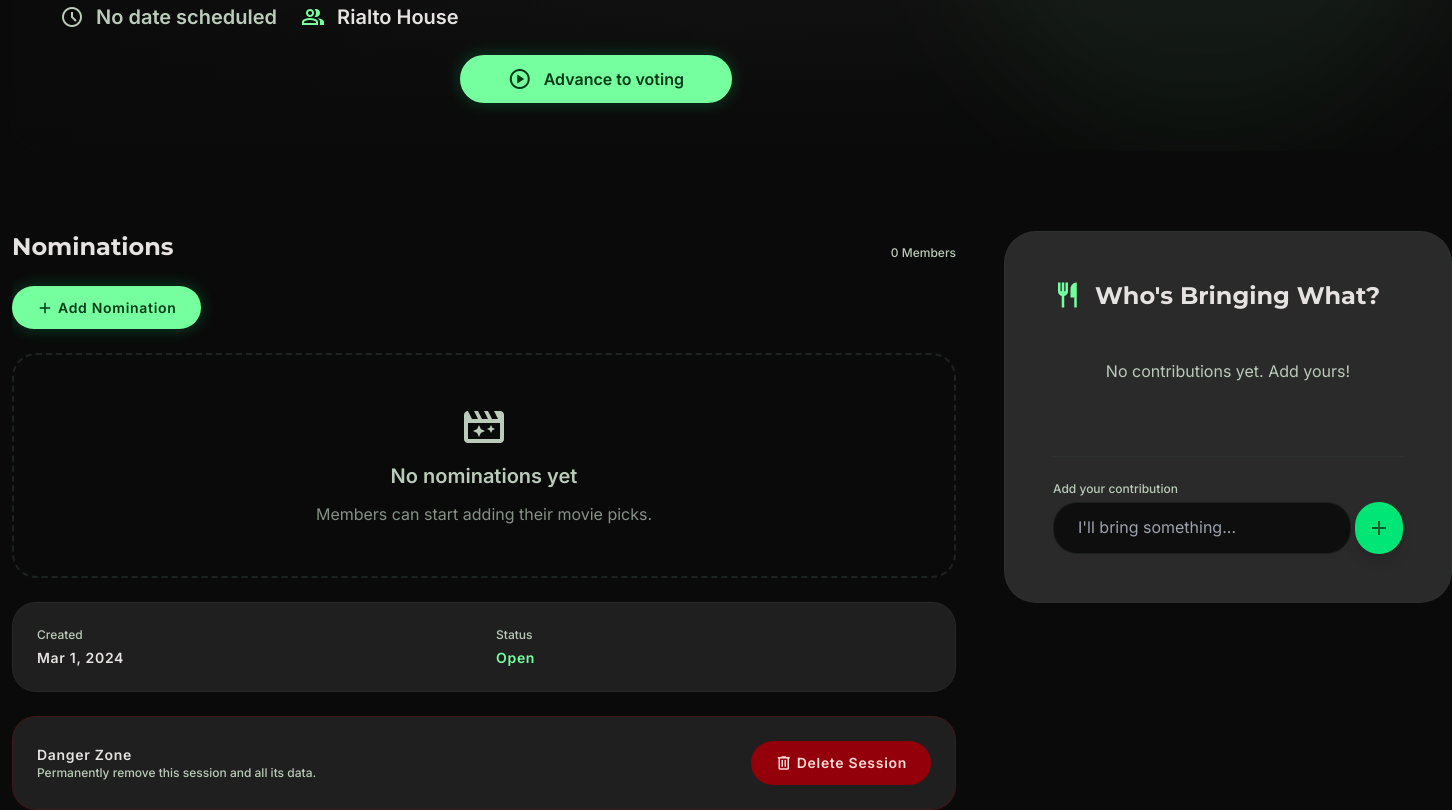
it: SessionPage › clicking the add button adds a contribution to the list
(page scrolled)
Type "Popcorn" into the field with placeholder "I'll bring something...". click: (1202, 528)
box: [1053,502,1351,554]
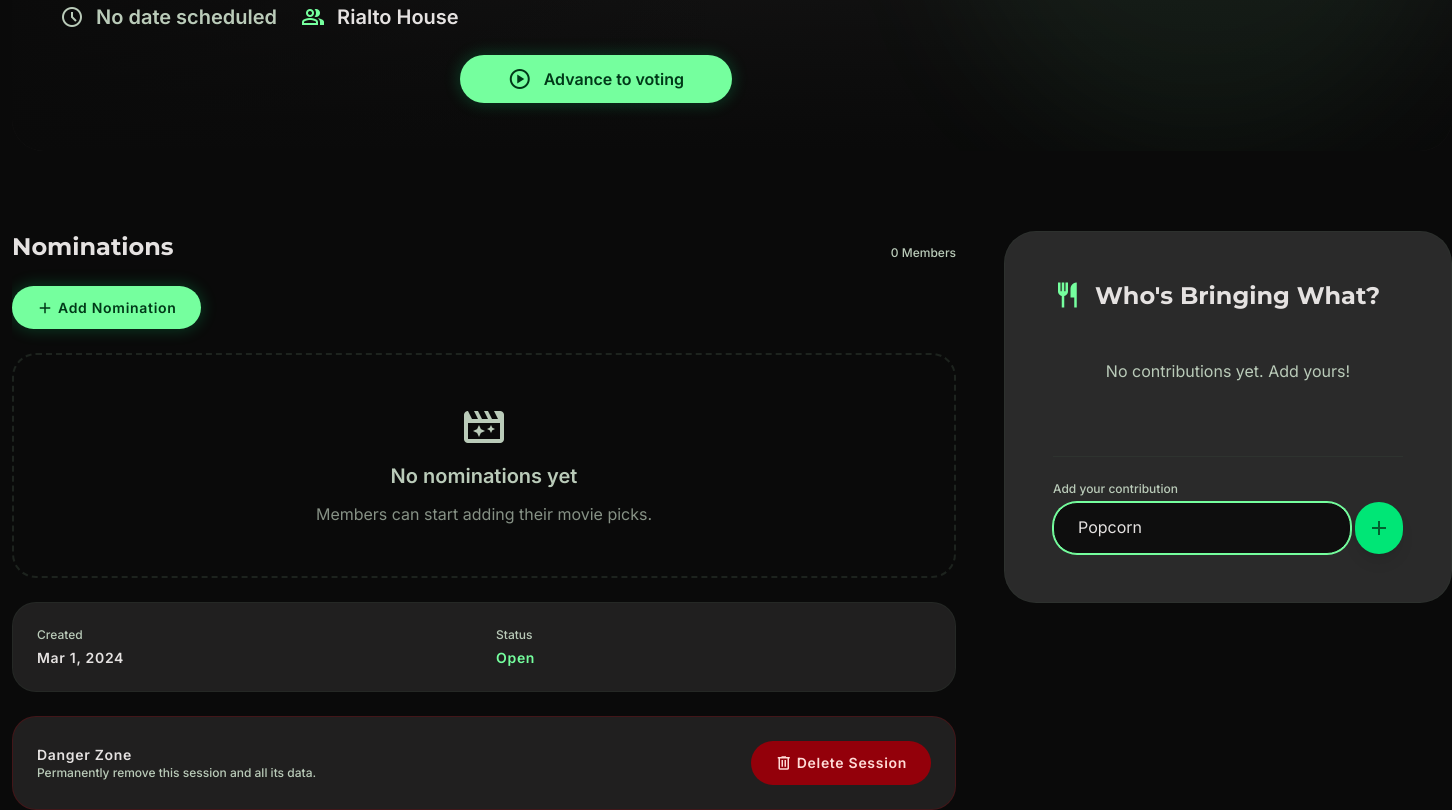
Click the button named "add". click: (1379, 528)
box: [1355,502,1403,554]
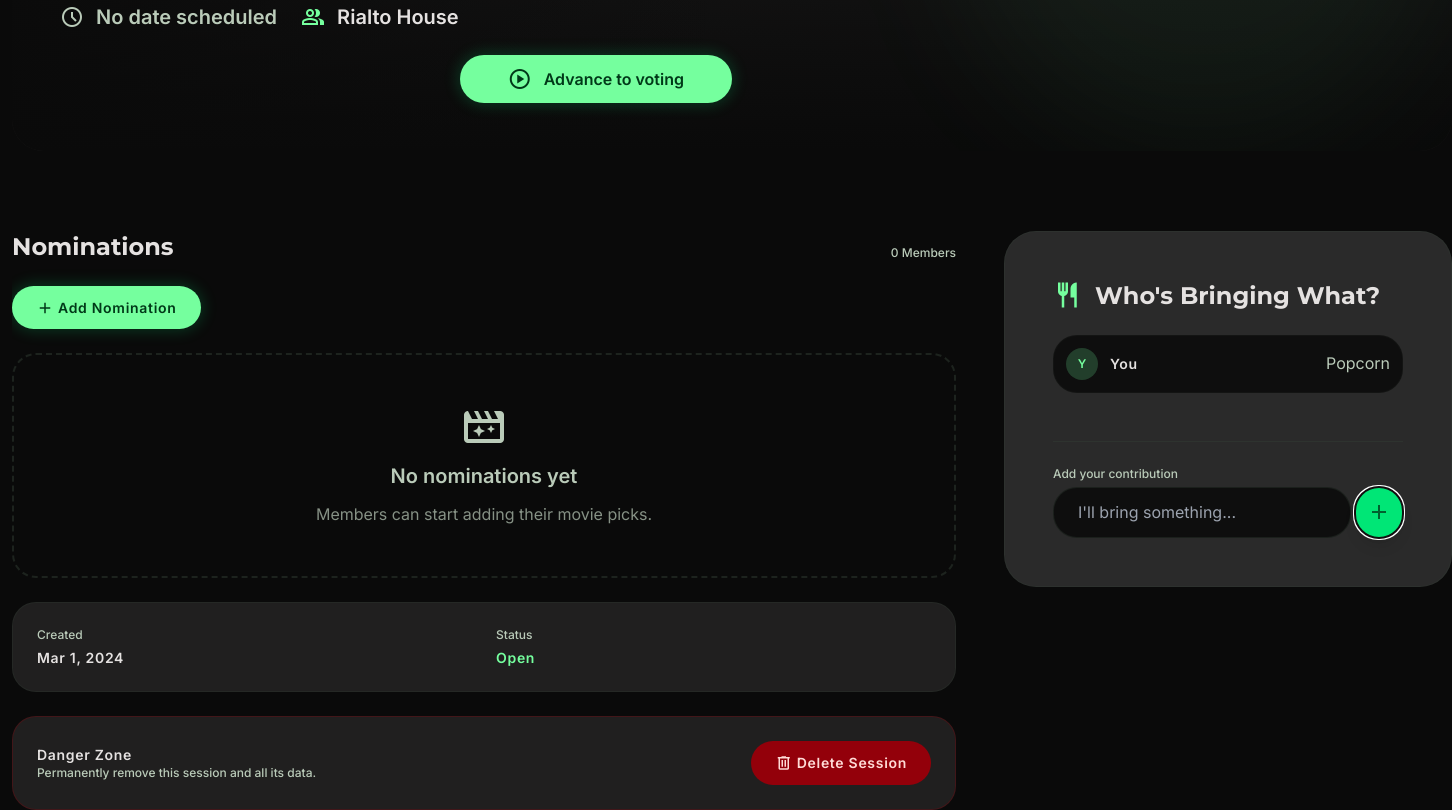
Expected: the text "You" is shown, [1110,354,1138,374]
Now the text "Popcorn" is shown, box [1326,351,1390,377]
